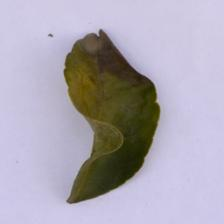black spot: (48, 7, 150, 90)
